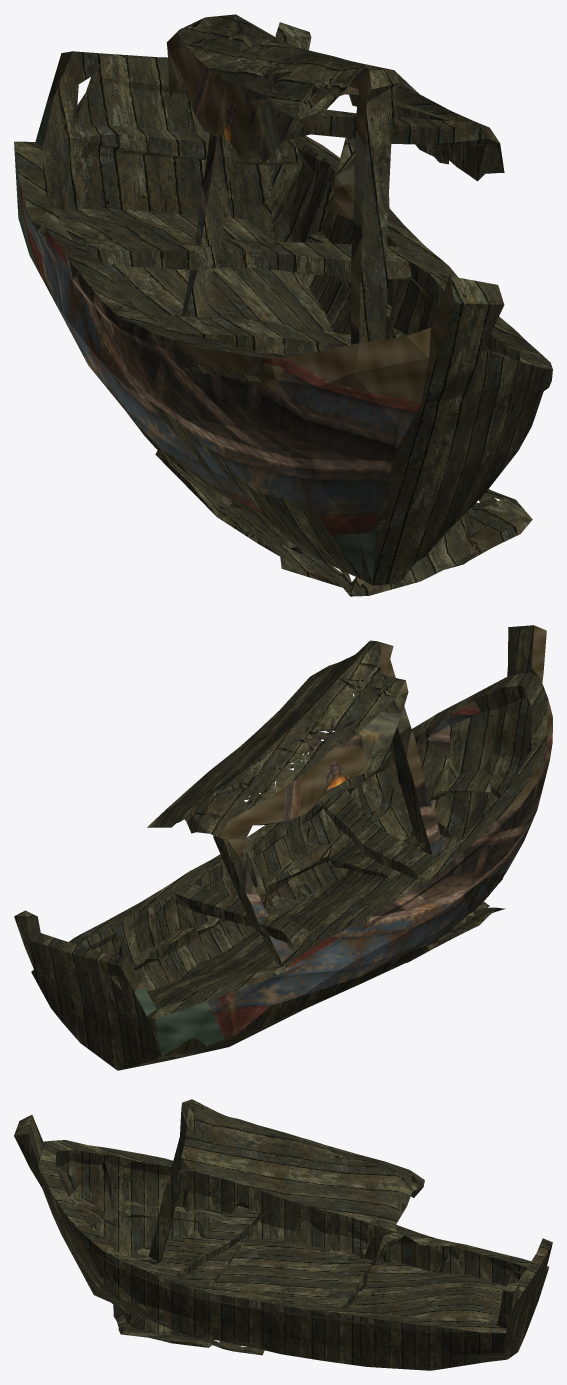
The model's file is boat_pulled_up_reduced.glb.
3 renders of one model, top to bottom at view 1: azimuth 30°, elevation 25°; view 2: azimuth 150°, elevation 25°; view 3: azimuth 270°, elevation 25°, orthographic. The views are drawn at different scales.
Parts seen in each view (by area): view 1: WoodKeelDeckAndInnerHull, SidePaintAndEyes; view 2: WoodKeelDeckAndInnerHull, SidePaintAndEyes; view 3: WoodKeelDeckAndInnerHull.
Part boxes in pixels (bbox=[...]): WoodKeelDeckAndInnerHull: bbox=[14, 14, 552, 596]; SidePaintAndEyes: bbox=[14, 33, 454, 585]; WoodKeelDeckAndInnerHull: bbox=[14, 625, 548, 1070]; SidePaintAndEyes: bbox=[134, 625, 552, 1056]; WoodKeelDeckAndInnerHull: bbox=[14, 1099, 552, 1370].
Bounding box in the file's own units: 0.9706 × 0.9802 × 1.99.
2 materials, 2 textured.
